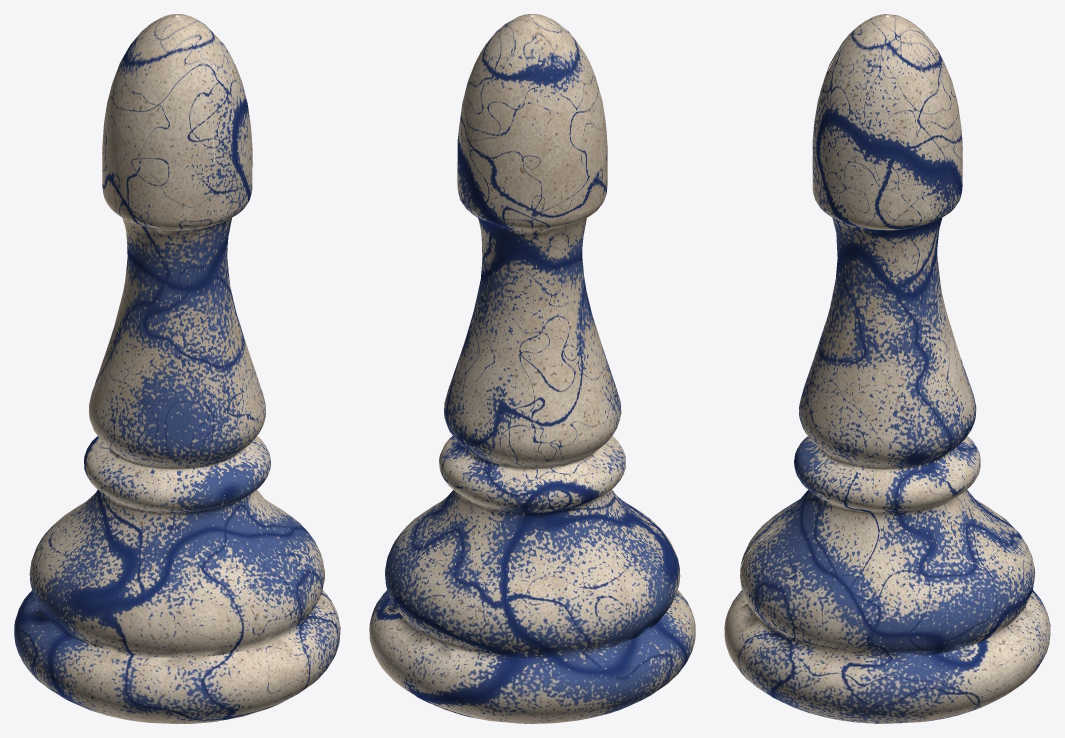
Rendered from queen-white.glb.
3 renders of one model, left to right at view 1: azimuth 30°, elevation 25°; view 2: azimuth 150°, elevation 25°; view 3: azimuth 270°, elevation 25°, orthographic.
Parts seen in each view (by area): view 1: Cobalt Vein white queen; view 2: Cobalt Vein white queen; view 3: Cobalt Vein white queen.
Boxes of the visible parts, x1,y1,x2,y2 form: Cobalt Vein white queen: (14, 14, 340, 723); Cobalt Vein white queen: (369, 14, 695, 723); Cobalt Vein white queen: (724, 14, 1050, 723).
Bounding box in the file's own units: 0.6276 × 1.39 × 0.6276.
Materials: 1 (1 with a texture image).
